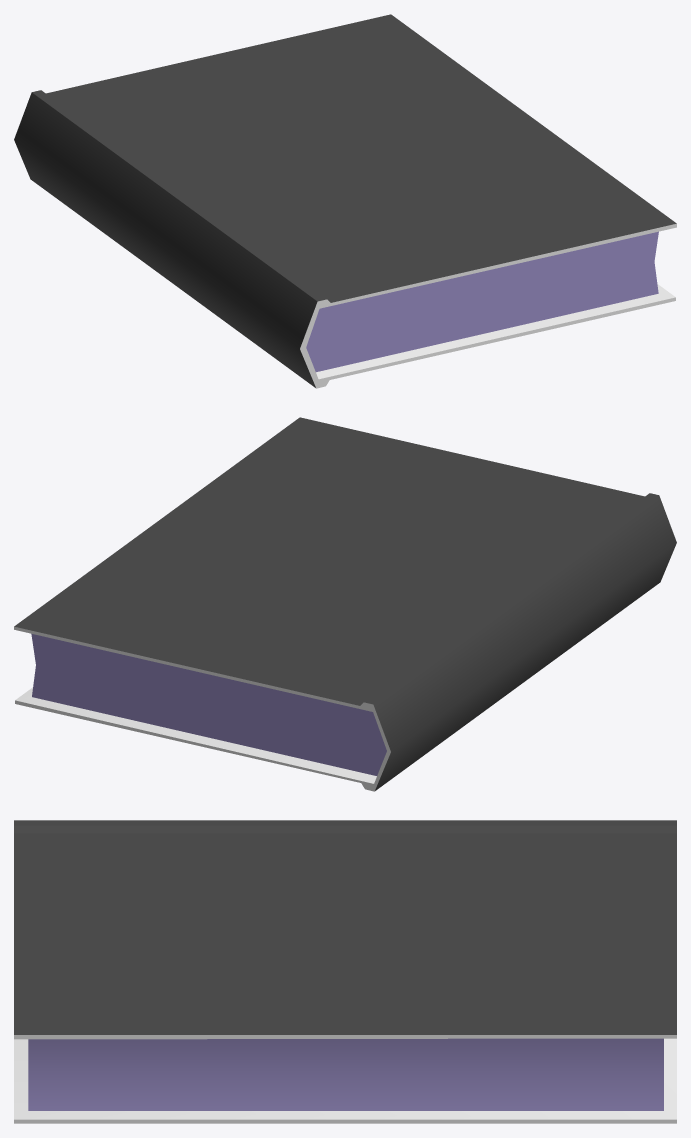
File: SSYXING03.FBX
The picture shows the model from 3 angles, top to bottom: view 1: azimuth 30°, elevation 25°; view 2: azimuth 150°, elevation 25°; view 3: azimuth 270°, elevation 25°; orthographic projection. The views are drawn at different scales.
Parts seen in each view (by area): view 1: SSYXING03; view 2: SSYXING03; view 3: SSYXING03.
Part boxes in pixels (x1,y1,x2,y2): SSYXING03: (14,14,676,388); SSYXING03: (14,417,676,791); SSYXING03: (14,820,676,1123).
Bounding box in the file's own units: 41.39 × 9.11 × 54.36.
